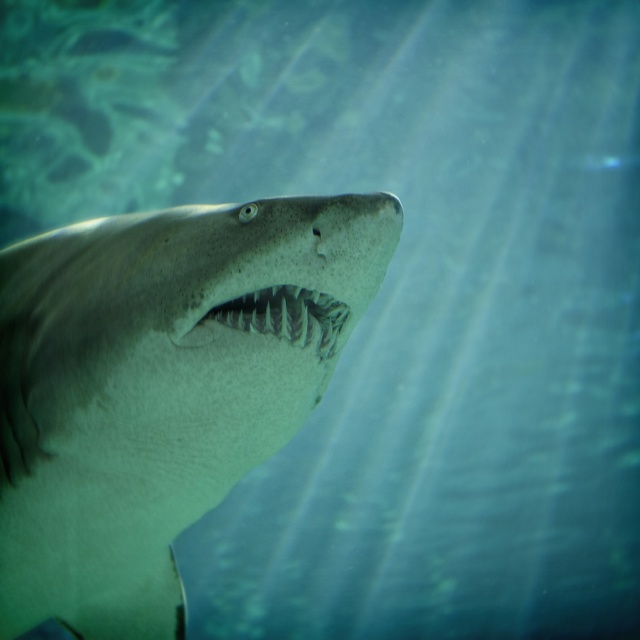Shark: (0, 192, 404, 640)
